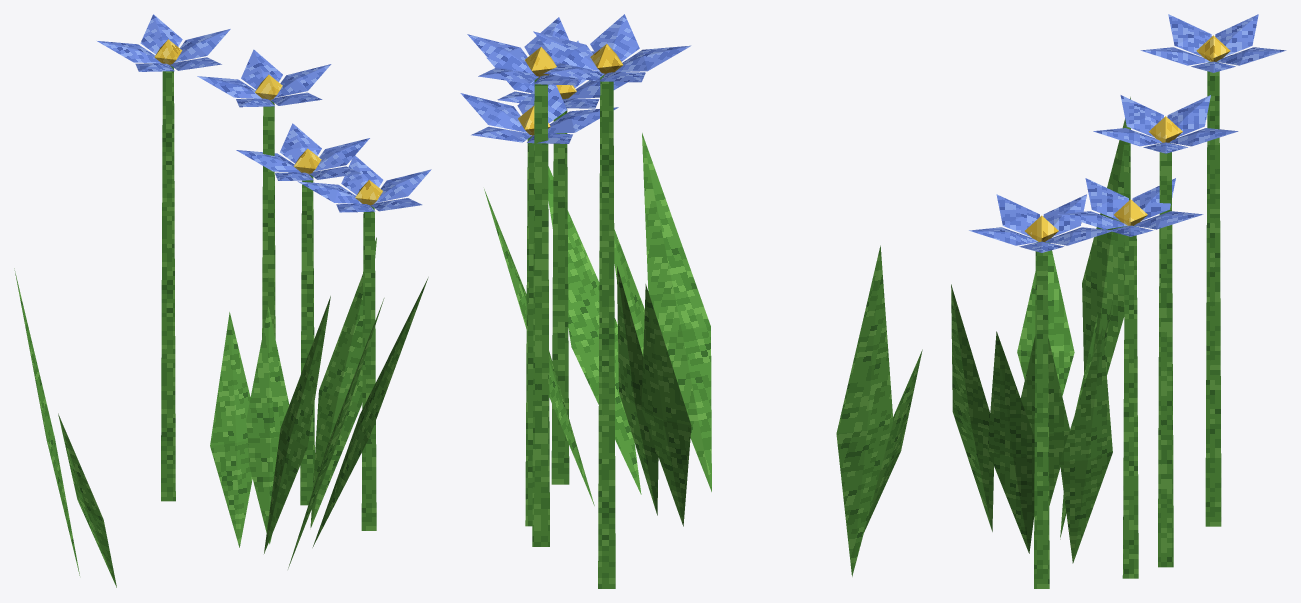
File: flowers_blue.glb
The picture shows the model from 3 angles, left to right: view 1: azimuth 30°, elevation 25°; view 2: azimuth 150°, elevation 25°; view 3: azimuth 270°, elevation 25°; orthographic projection. The views are drawn at different scales.
Visible parts, largest first — view 1: Body.027; view 2: Body.027; view 3: Body.027.
Part boxes in pixels (box(x1,y1,x2,y2)): Body.027: box(14, 14, 431, 587); Body.027: box(460, 14, 922, 588); Body.027: box(951, 14, 1286, 588).
Bounding box in the file's own units: 0.4013 × 0.4693 × 0.2918.
Materials: 3 (3 with a texture image).
